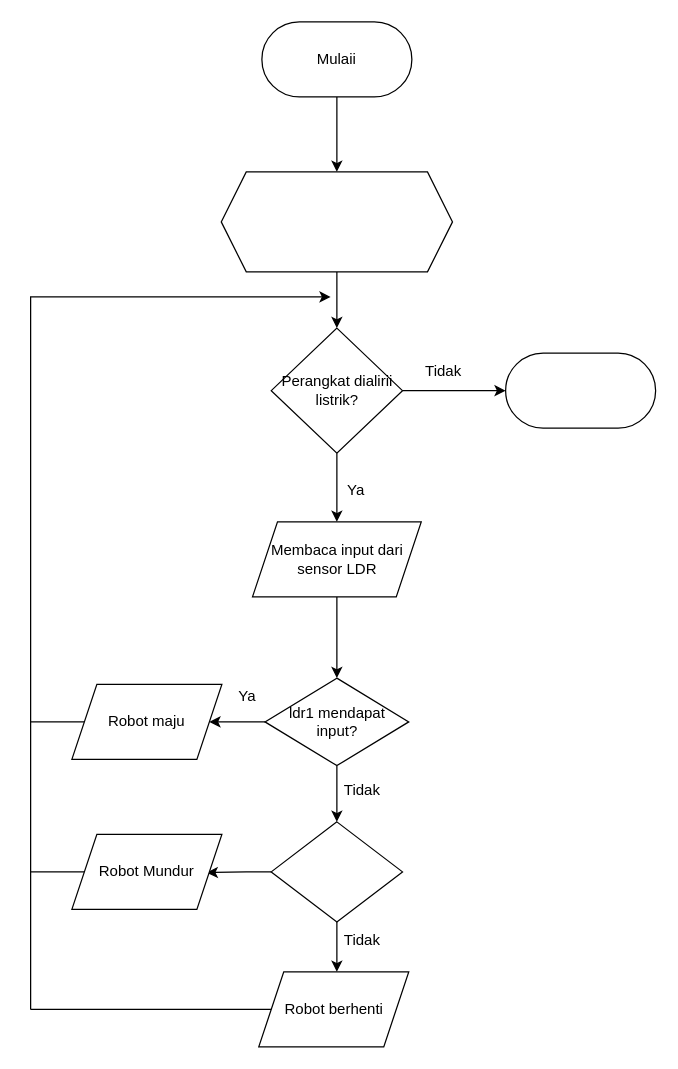
Some shapes in this 678 by 1069 pixel diagram are drawn without their labels. The box of each missing label's shape, as (x1, y1, x2, y2) in pixels:
Inisialisasi motor driver in1, in2, in3, in4, serta sensor ldr ldr1, dan ldr2: (220, 171, 452, 272)
ldr2 mendapat input?: (270, 821, 402, 922)
Selesai: (504, 352, 656, 428)
